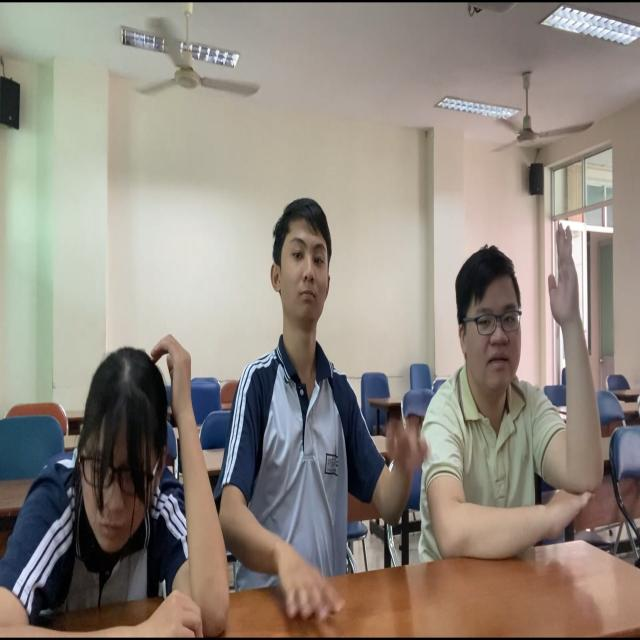raise_hand: (417, 225, 612, 573)
